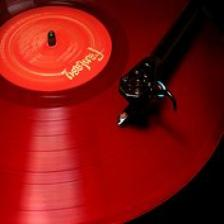red: (0, 1, 224, 224), (0, 6, 112, 92)
